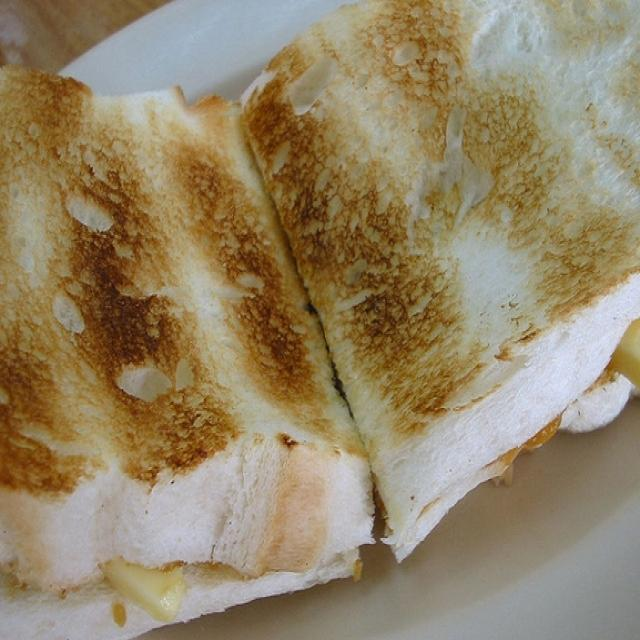面包点心: (14, 14, 614, 608)
